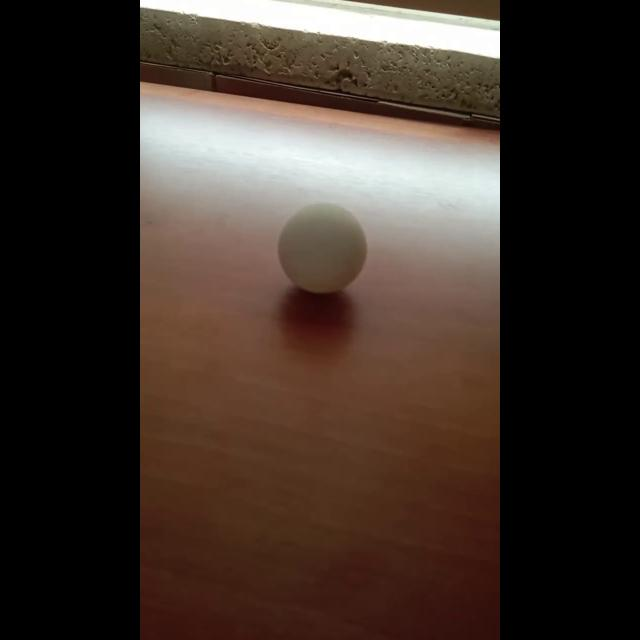white ball: (276, 202, 368, 294)
